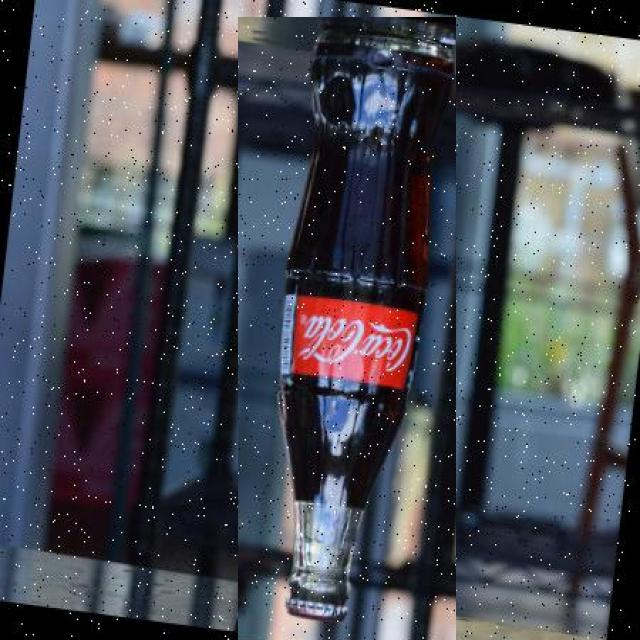coca-cola: (238, 17, 456, 640)
